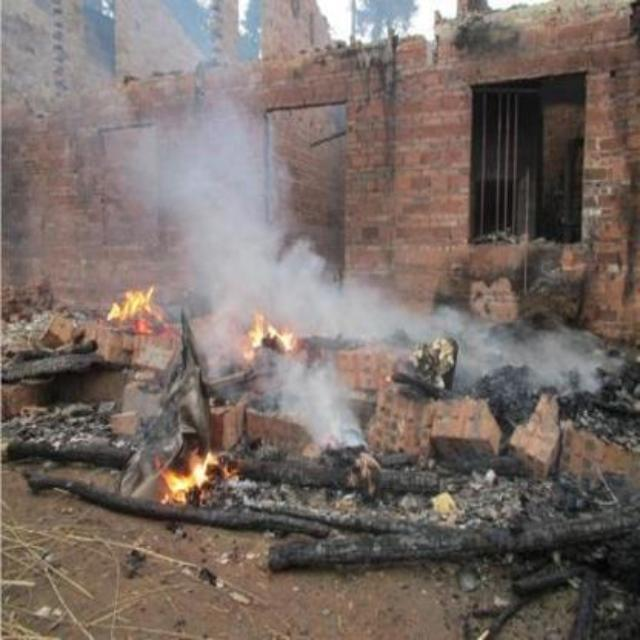Fire: (152, 447, 228, 511), (99, 285, 155, 335), (245, 311, 297, 361)
Smoke: (316, 280, 618, 400), (170, 116, 318, 314), (280, 380, 364, 448)
